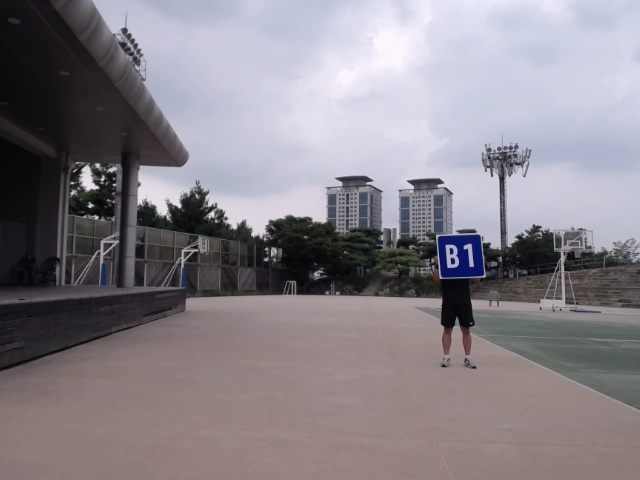delivery_b1: (437, 234, 486, 279)
